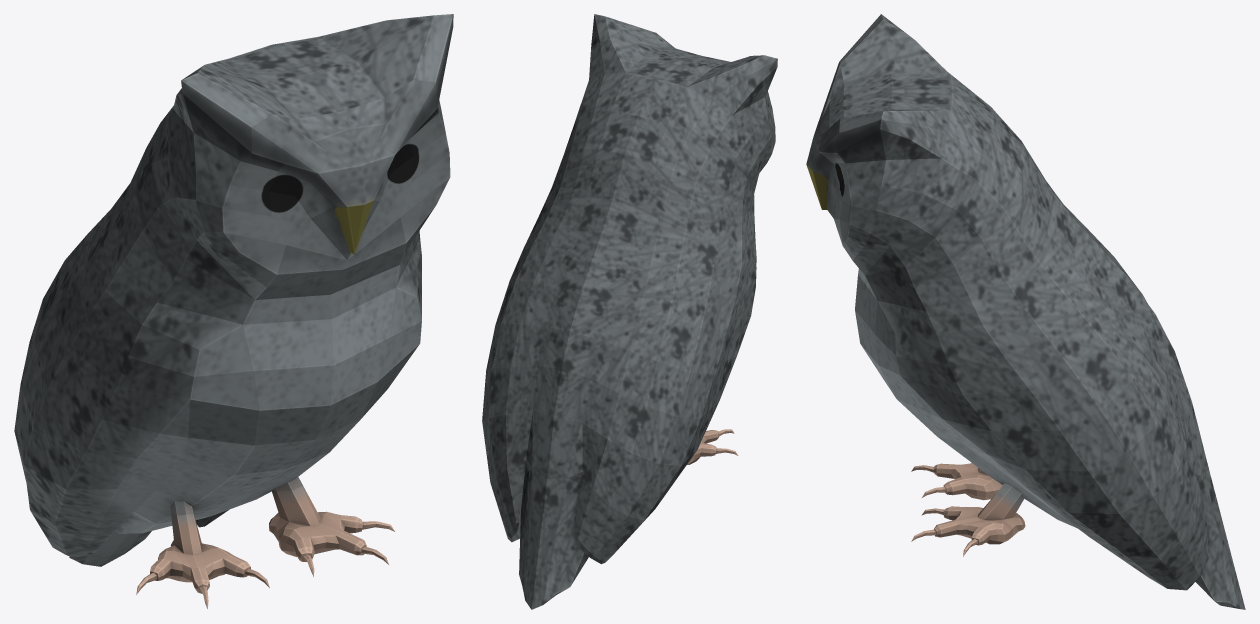
Rendered from animal_owl.glb.
3 views of the same model, side by side, from view 1: azimuth 30°, elevation 25°; view 2: azimuth 150°, elevation 25°; view 3: azimuth 270°, elevation 25° (orthographic). The views are drawn at different scales.
Visible parts, largest first — view 1: ScreechOwl_mesh; view 2: ScreechOwl_mesh; view 3: ScreechOwl_mesh.
Part boxes in pixels (left/top/right/bottom): ScreechOwl_mesh: left=14, top=14, right=453, bottom=608; ScreechOwl_mesh: left=482, top=14, right=777, bottom=609; ScreechOwl_mesh: left=806, top=14, right=1245, bottom=609.
Size of the model in its own units: 2.99 by 6.31 by 4.62.
Materials: 1 (1 with a texture image).
